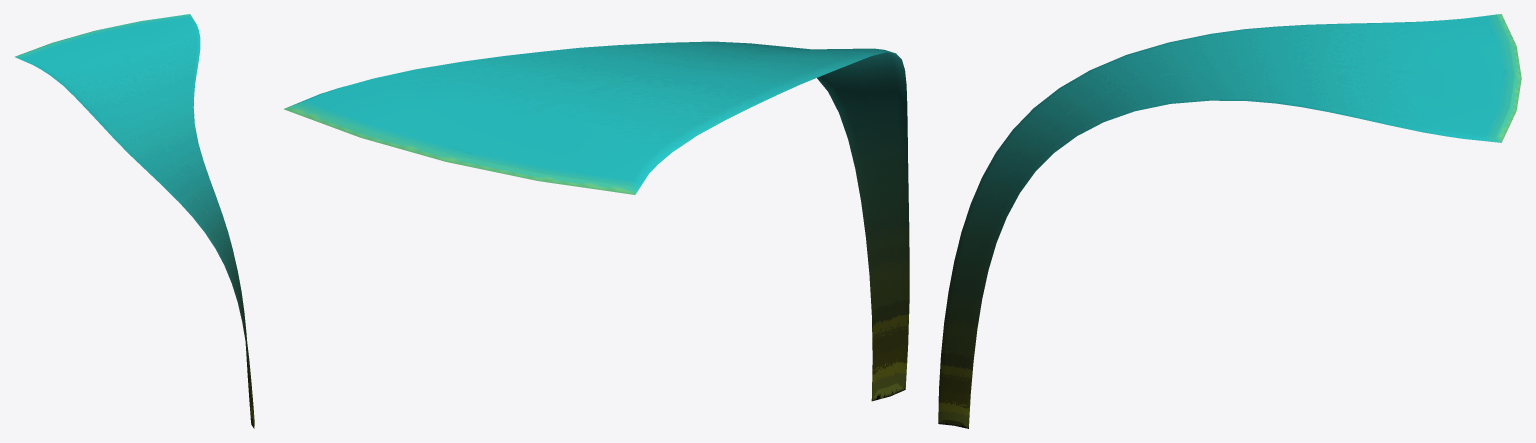
The model's file is HaH_PlayerSlice.obj.
3 renders of one model, left to right at view 1: azimuth 30°, elevation 25°; view 2: azimuth 150°, elevation 25°; view 3: azimuth 270°, elevation 25°, orthographic. The views are drawn at different scales.
Visible parts, largest first — view 1: PlayerSlice; view 2: PlayerSlice; view 3: PlayerSlice.
Part boxes in pixels (x1,y1,x2,y2): PlayerSlice: (15,14,254,428); PlayerSlice: (283,41,909,401); PlayerSlice: (938,14,1521,428).
Size of the model in its own units: 76.97 by 104 by 147.
1 material, 1 textured.
